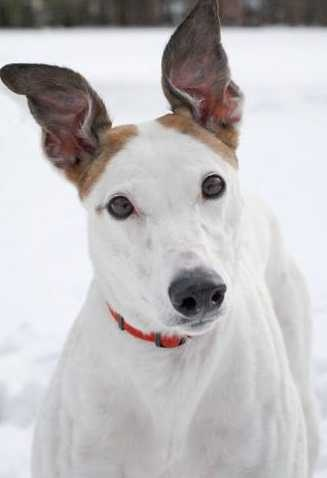Dog: (2, 48, 309, 477)
